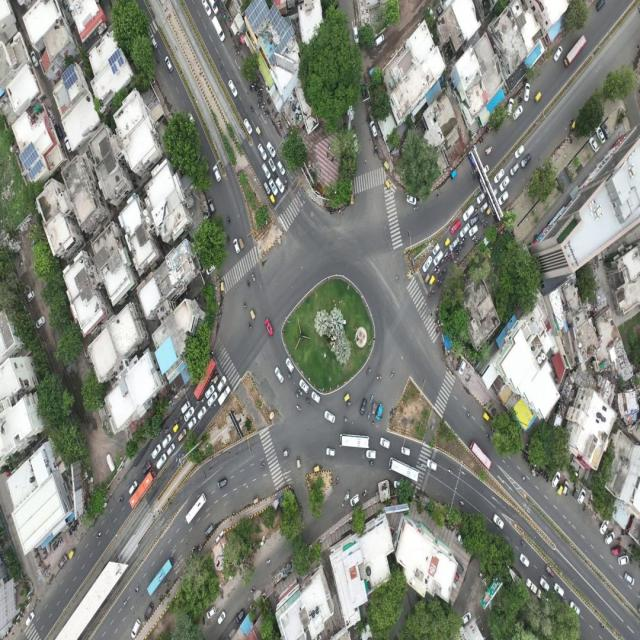3W: (66, 542, 77, 561), (450, 164, 460, 182), (532, 87, 543, 103), (382, 156, 391, 173), (295, 454, 303, 473), (255, 124, 264, 140), (572, 486, 581, 502), (555, 485, 566, 498), (269, 192, 277, 209), (482, 408, 490, 425), (423, 272, 432, 287), (239, 235, 246, 253), (383, 178, 392, 192), (441, 234, 450, 248), (250, 496, 261, 507), (312, 464, 322, 476), (342, 393, 354, 403), (250, 306, 257, 323), (173, 421, 182, 434), (429, 274, 437, 288), (279, 450, 291, 459), (212, 371, 219, 386), (219, 278, 226, 292), (570, 120, 578, 132), (485, 206, 493, 218)
Bus: (126, 466, 158, 515), (193, 346, 218, 405), (147, 553, 175, 601), (467, 436, 498, 473), (181, 487, 210, 525), (386, 456, 422, 484), (563, 31, 589, 69), (337, 426, 372, 450)
Cars: (461, 201, 476, 222), (144, 601, 157, 625), (226, 78, 239, 100), (131, 612, 141, 640), (263, 316, 275, 339), (216, 372, 228, 394), (368, 116, 380, 138), (273, 365, 286, 385), (511, 104, 524, 124), (58, 548, 69, 571), (498, 174, 511, 193), (603, 529, 616, 548), (569, 600, 582, 619), (518, 550, 531, 569), (206, 194, 217, 216), (595, 123, 606, 145), (241, 116, 253, 136), (265, 140, 277, 160), (268, 176, 280, 196), (588, 135, 600, 155), (520, 150, 532, 170), (544, 562, 556, 582), (215, 474, 229, 491), (297, 377, 310, 395), (493, 167, 506, 185), (623, 570, 636, 588), (492, 512, 505, 530), (213, 162, 223, 185), (235, 607, 247, 626), (150, 441, 162, 460), (261, 162, 273, 181), (552, 44, 564, 63), (166, 440, 177, 460), (274, 176, 285, 196), (422, 253, 433, 273), (156, 453, 168, 471), (359, 396, 368, 420), (201, 0, 213, 18), (275, 159, 287, 177), (257, 141, 267, 162), (599, 518, 610, 537), (554, 581, 565, 600), (497, 191, 510, 207), (506, 96, 515, 119), (208, 0, 220, 17), (514, 143, 526, 160), (359, 80, 368, 102), (374, 32, 385, 50), (509, 162, 520, 180), (380, 435, 393, 450), (426, 457, 439, 472), (216, 610, 228, 626), (203, 523, 215, 539), (310, 390, 322, 406), (325, 410, 337, 426), (448, 236, 460, 252), (164, 54, 174, 73), (601, 121, 611, 140), (325, 442, 336, 459), (350, 492, 361, 509), (469, 210, 480, 227), (459, 222, 470, 239), (433, 250, 444, 267), (550, 472, 561, 489), (539, 576, 550, 593), (365, 447, 378, 461), (617, 553, 630, 567), (25, 609, 35, 627), (128, 480, 140, 495), (162, 432, 172, 450), (185, 405, 195, 423), (561, 476, 570, 496), (177, 427, 188, 443), (207, 393, 218, 409), (352, 131, 359, 156), (149, 33, 159, 50), (449, 221, 462, 234), (610, 544, 623, 557), (375, 401, 383, 422), (400, 445, 412, 459), (142, 461, 153, 476), (232, 238, 241, 256), (268, 156, 277, 174), (353, 23, 360, 46), (198, 405, 208, 421), (285, 358, 295, 374), (262, 180, 272, 196), (523, 83, 531, 103), (595, 0, 607, 13), (406, 193, 417, 207), (476, 189, 486, 204), (205, 384, 215, 398), (578, 486, 585, 506), (188, 416, 197, 431), (432, 241, 441, 256), (468, 226, 480, 237), (206, 606, 216, 619), (458, 360, 466, 376), (480, 203, 489, 214), (483, 164, 489, 174)
LCV: (211, 14, 228, 45), (217, 388, 233, 410), (524, 576, 539, 598), (180, 395, 190, 417)
M2W: (333, 470, 340, 487), (263, 554, 272, 566), (132, 582, 140, 595), (95, 529, 103, 541), (518, 537, 526, 549), (154, 53, 161, 66), (599, 620, 606, 633), (121, 597, 128, 609), (412, 201, 419, 213), (484, 432, 493, 441), (457, 498, 466, 507), (163, 424, 171, 434), (447, 467, 455, 477), (226, 232, 232, 245), (569, 116, 575, 129), (389, 366, 395, 379), (259, 459, 265, 472), (248, 321, 254, 333), (245, 277, 251, 289), (453, 258, 461, 267), (517, 96, 525, 105), (303, 395, 311, 404), (294, 404, 302, 413), (287, 371, 293, 383), (66, 527, 73, 537), (243, 298, 248, 312), (227, 212, 232, 226), (394, 274, 401, 284), (364, 367, 371, 377), (368, 395, 375, 405), (297, 388, 304, 398), (283, 182, 289, 193), (474, 201, 479, 214), (374, 374, 382, 382), (38, 559, 45, 568), (200, 395, 207, 404), (34, 551, 40, 561), (70, 523, 76, 533), (72, 523, 78, 533), (251, 273, 257, 283), (342, 415, 348, 425), (191, 542, 195, 557), (232, 509, 239, 517), (51, 542, 56, 553), (284, 176, 289, 187), (366, 411, 371, 422), (74, 518, 80, 527), (179, 413, 185, 422), (212, 369, 218, 378), (269, 107, 275, 116), (372, 150, 378, 159), (627, 542, 633, 551), (345, 399, 351, 408), (294, 391, 300, 400), (251, 587, 257, 596), (167, 578, 171, 591), (235, 46, 240, 56), (248, 85, 253, 95), (371, 420, 376, 430), (430, 288, 437, 295), (472, 239, 479, 246), (521, 475, 528, 482), (616, 536, 623, 543), (54, 538, 58, 550), (57, 537, 61, 549), (263, 107, 269, 115), (273, 112, 279, 120), (433, 265, 439, 273), (483, 221, 489, 229), (478, 135, 482, 147), (59, 536, 64, 545), (466, 411, 471, 420), (120, 494, 124, 505), (435, 326, 439, 337), (256, 103, 262, 110), (278, 123, 284, 130), (271, 172, 278, 178), (435, 268, 441, 275), (460, 241, 467, 247), (363, 492, 369, 499), (160, 594, 164, 604), (250, 104, 254, 114), (629, 556, 633, 566), (583, 501, 586, 514), (195, 399, 201, 405), (266, 100, 272, 106), (276, 118, 282, 124), (472, 235, 478, 241), (479, 219, 485, 225), (174, 418, 179, 425), (209, 378, 214, 385), (250, 81, 255, 88), (253, 84, 258, 91), (256, 98, 263, 103), (265, 97, 270, 104), (426, 292, 431, 299), (438, 280, 443, 287), (439, 259, 444, 266), (462, 235, 467, 242), (518, 90, 523, 97), (369, 461, 374, 468), (527, 454, 530, 465), (266, 110, 270, 118), (623, 547, 627, 555), (257, 91, 262, 97), (261, 102, 266, 108), (436, 277, 439, 287), (438, 273, 443, 279), (458, 241, 463, 247), (525, 453, 528, 463), (540, 468, 543, 478), (443, 268, 447, 275), (444, 251, 448, 258), (444, 256, 448, 263), (448, 252, 452, 259), (450, 255, 454, 262), (456, 250, 461, 255), (259, 86, 265, 90), (534, 462, 537, 470), (544, 468, 546, 480), (523, 452, 525, 462), (547, 474, 549, 484), (256, 88, 259, 94), (454, 248, 460, 251)
